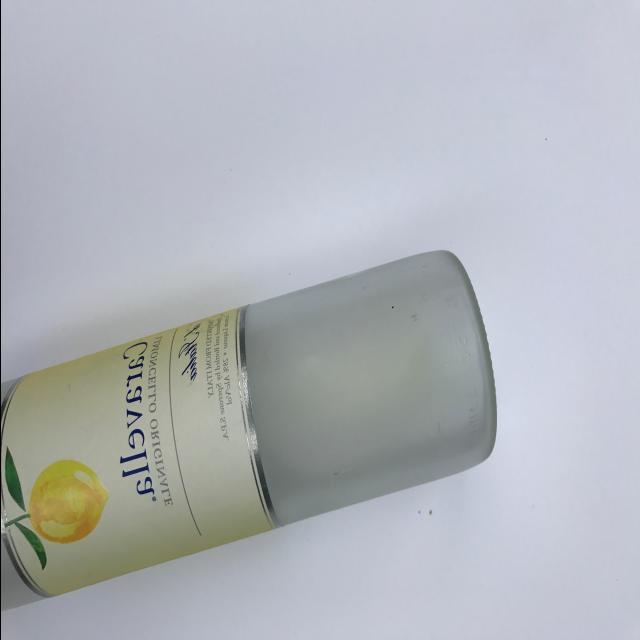glass: (0, 216, 535, 638)
